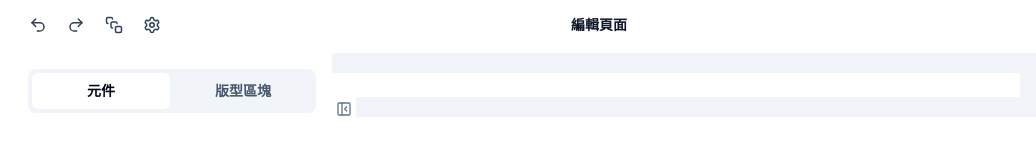
Scenario: left panel › collapses with an edge toggle that reports aria-expanded
Click the button named "收合左側面板": (344, 109) left=332, top=85, right=356, bottom=133
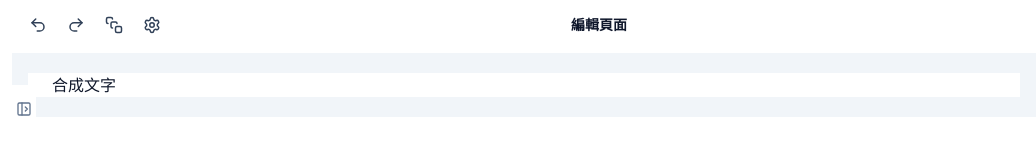
expect the button named "展開左側面板" is collapsed: met, box left=12, top=85, right=36, bottom=133
